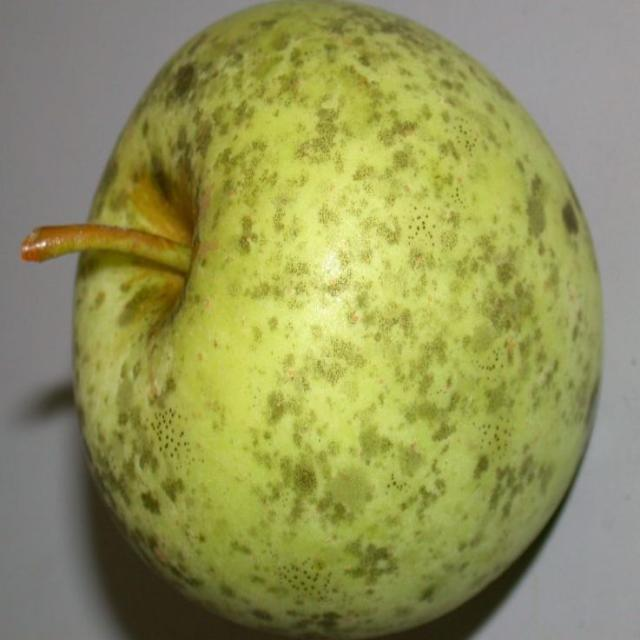Rotten Apple: (37, 4, 597, 628)
